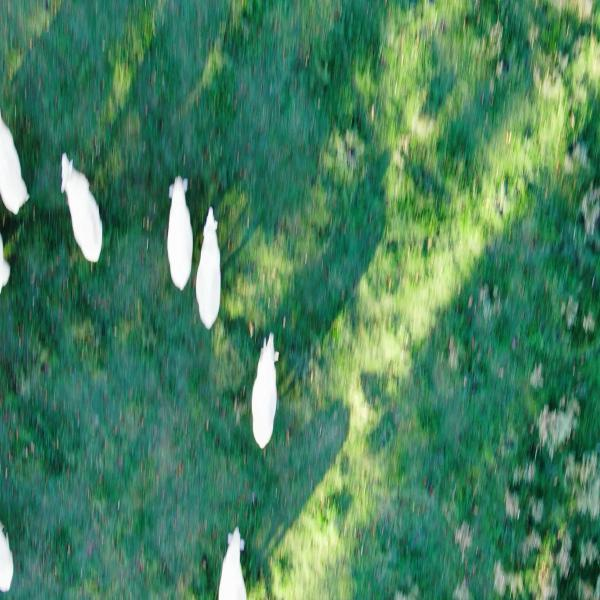sheep: (57, 144, 106, 270), (247, 322, 282, 456), (0, 85, 33, 221), (194, 202, 225, 338), (164, 167, 196, 296), (214, 518, 251, 599), (0, 494, 17, 599), (1, 173, 14, 302)
